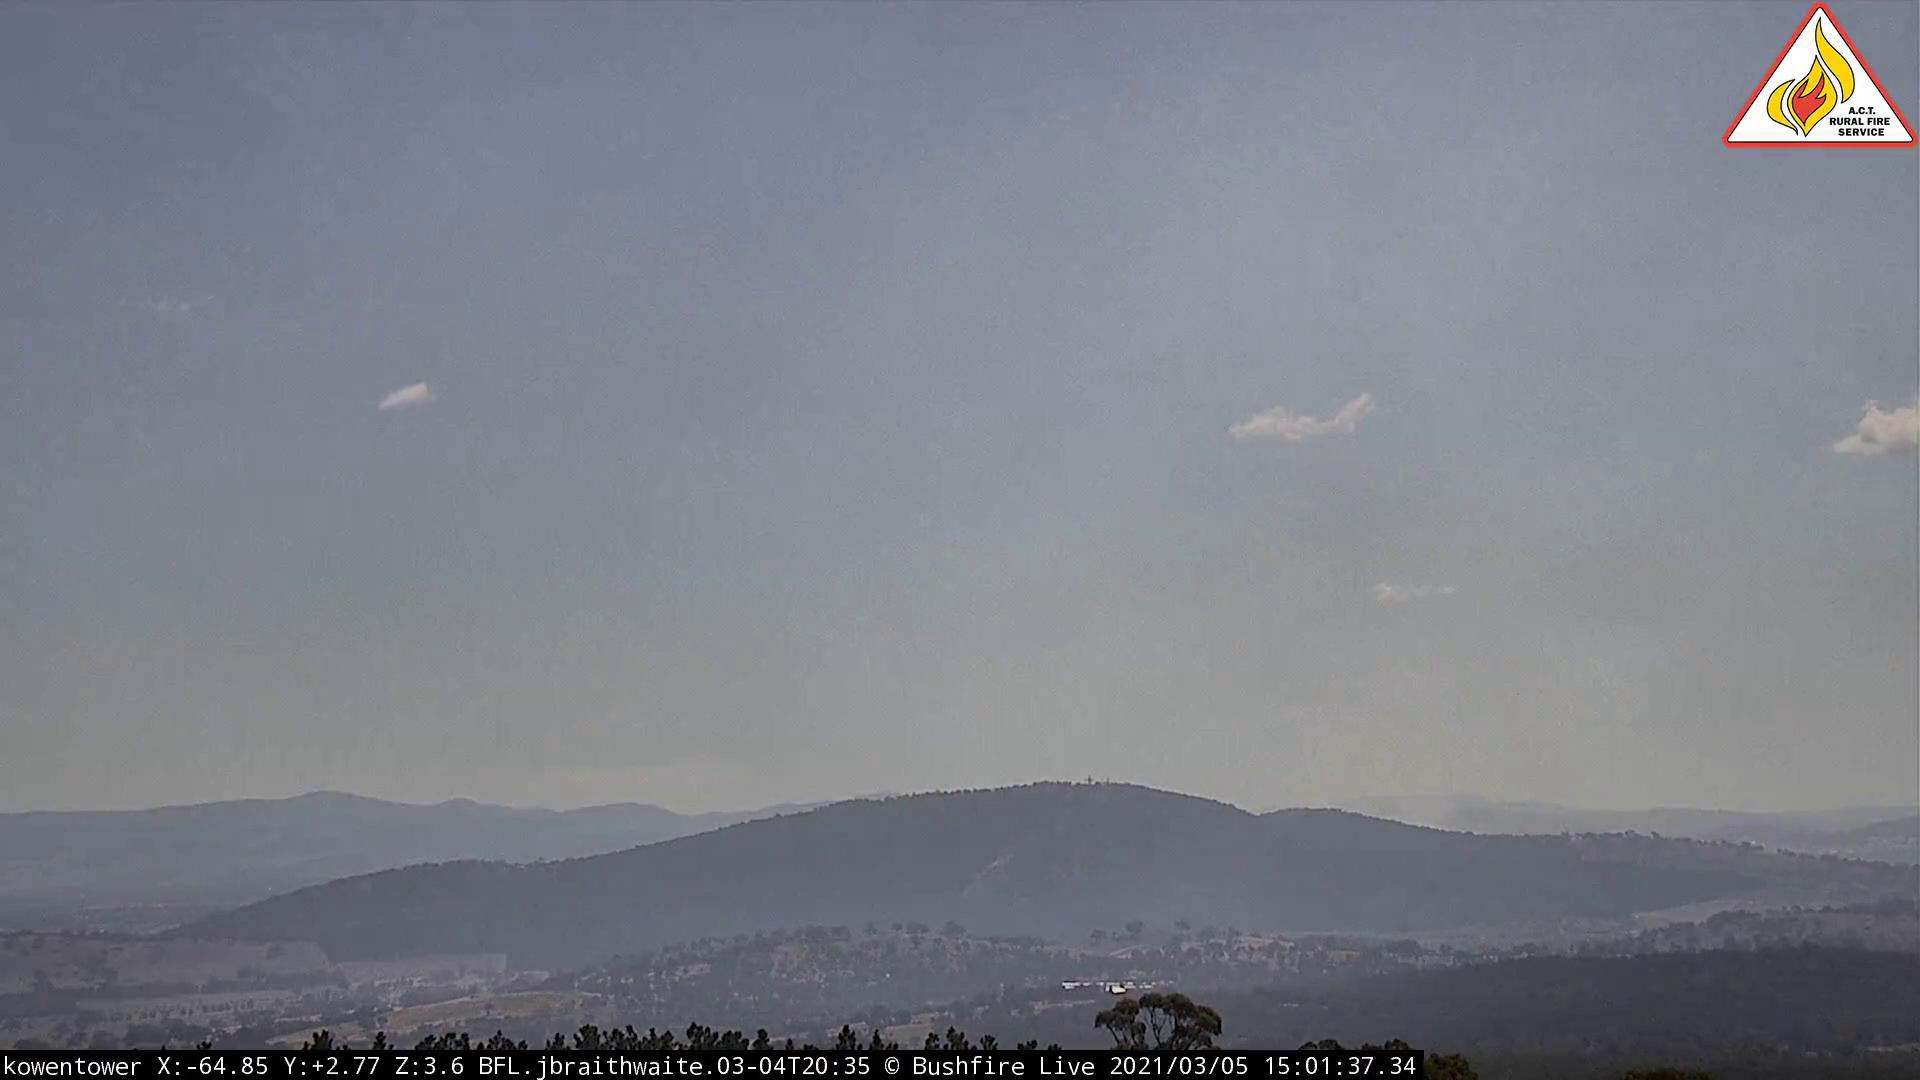Smoke: (1153, 542, 1859, 839)
